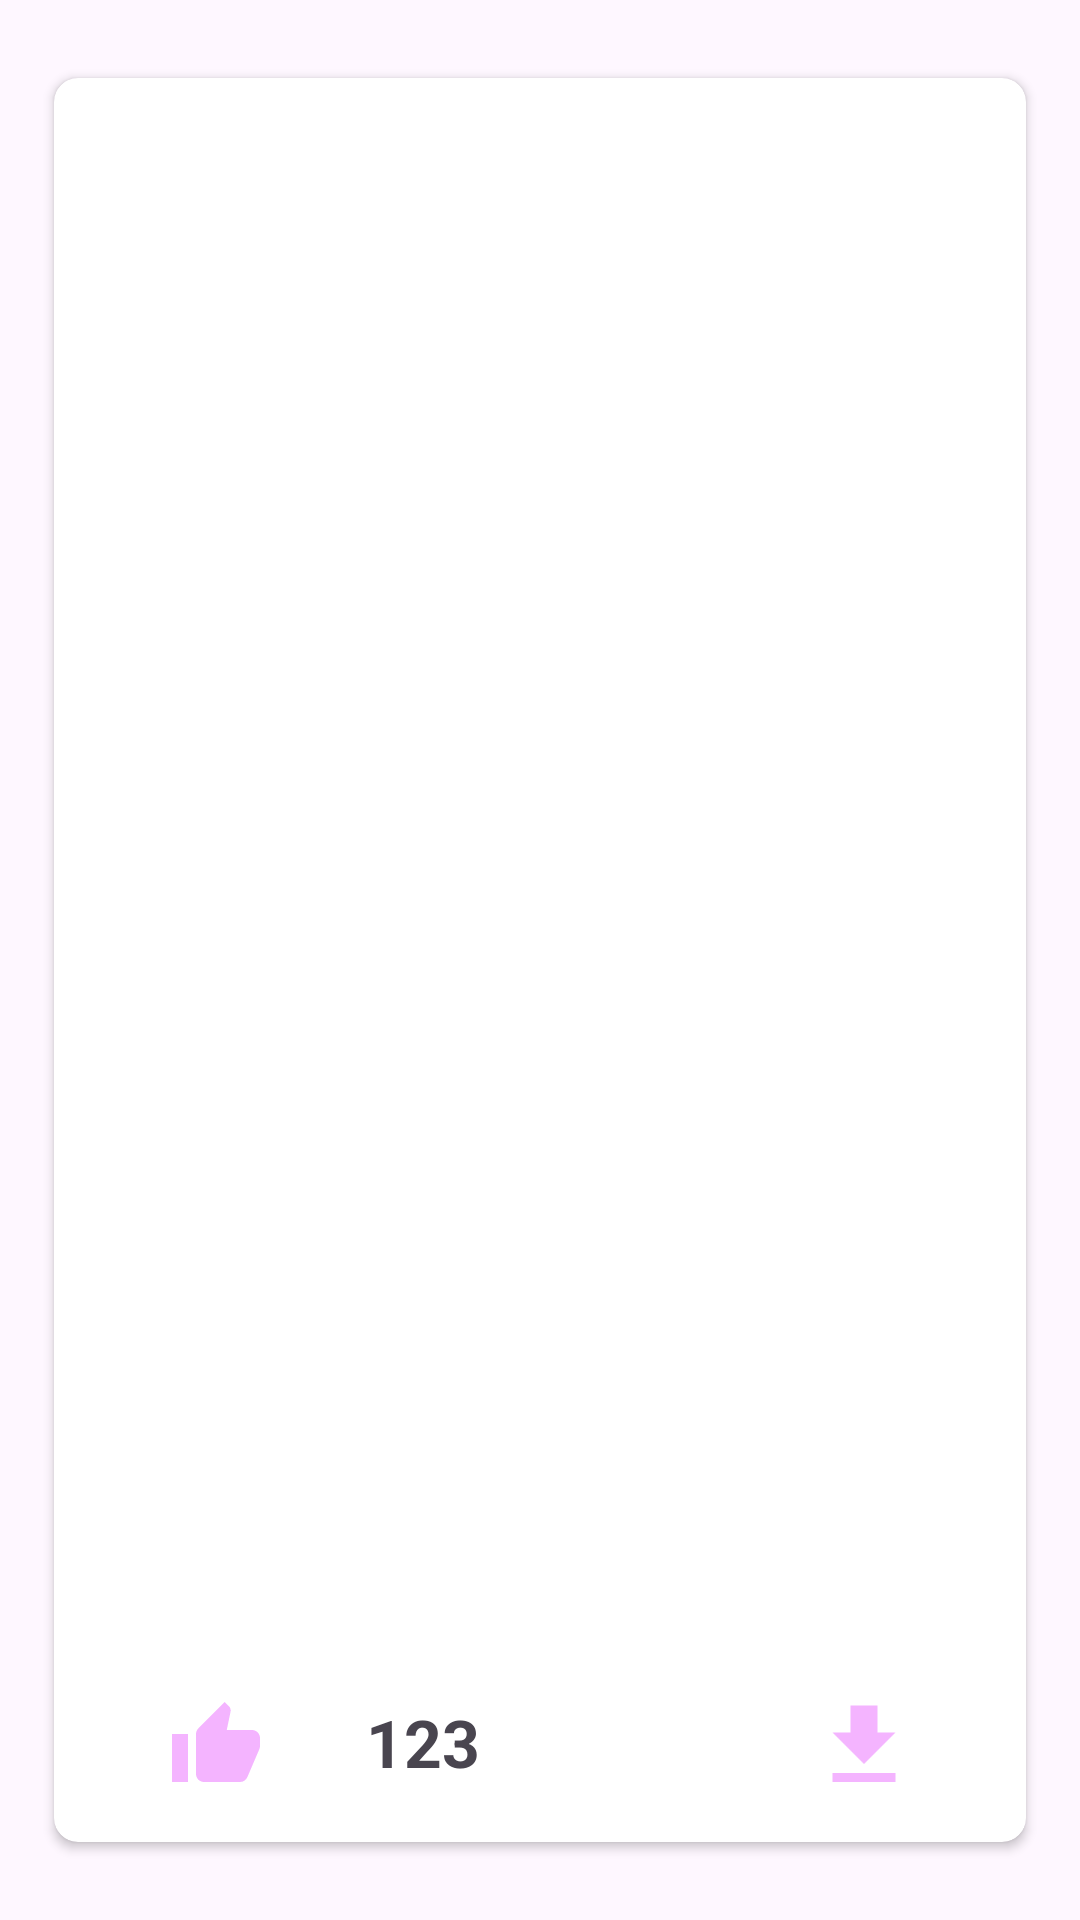

Icons on this 1080×1920 Android screen, each with its box as (x1, y1, x2, y2):
download: (832, 1705, 896, 1782)
like: (172, 1702, 260, 1782)
